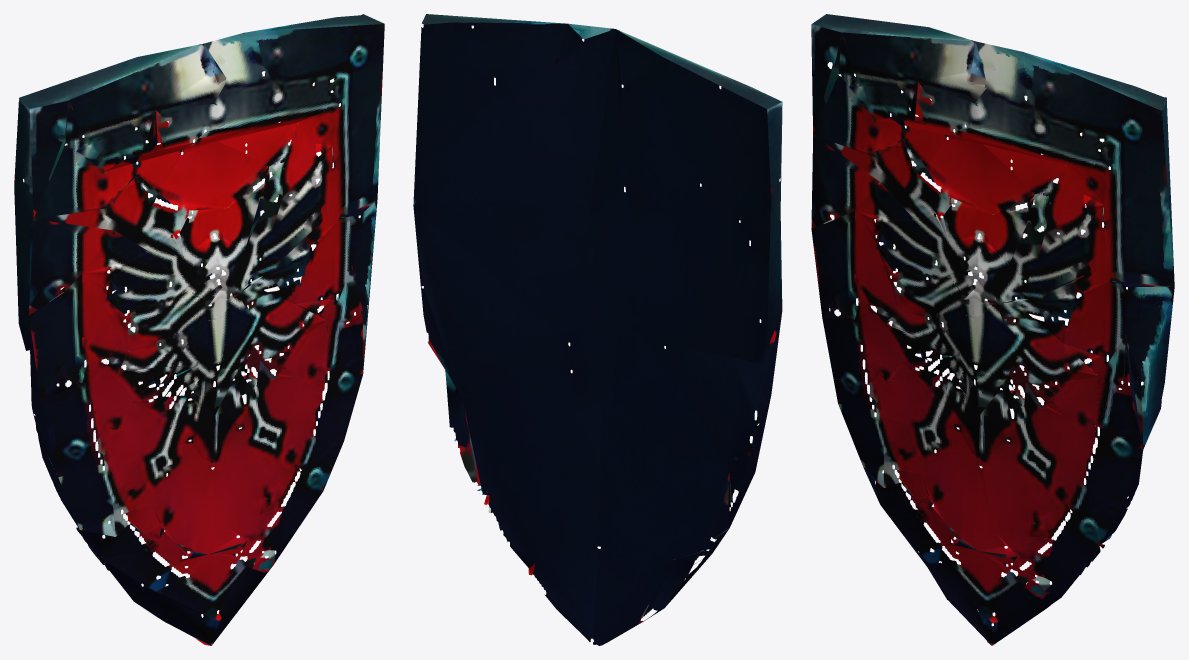
The model's file is GuardShield.glb.
3 renders of one model, left to right at view 1: azimuth 30°, elevation 25°; view 2: azimuth 150°, elevation 25°; view 3: azimuth 330°, elevation 25°, orthographic.
Parts seen in each view (by area): view 1: temp_mesh.ply; view 2: temp_mesh.ply; view 3: temp_mesh.ply.
Part boxes in pixels (left/top/right/bottom): temp_mesh.ply: left=14, top=14, right=384, bottom=645; temp_mesh.ply: left=413, top=14, right=782, bottom=645; temp_mesh.ply: left=811, top=14, right=1174, bottom=645.
Bounding box in the file's own units: 0.4937 × 0.8 × 0.0666.
Materials: 1 (1 with a texture image).
